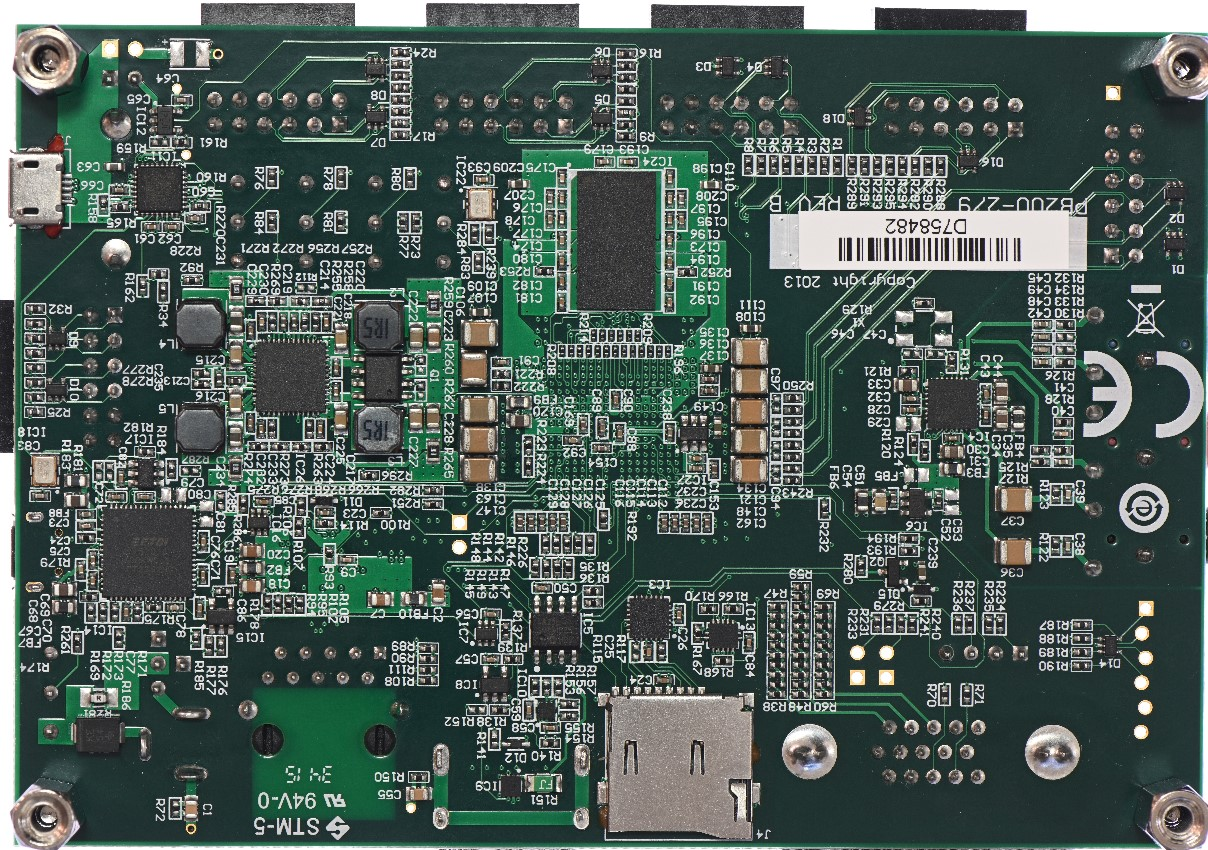Induktor: (354, 300, 404, 349), (353, 405, 402, 455), (174, 404, 227, 450), (175, 299, 225, 347)
